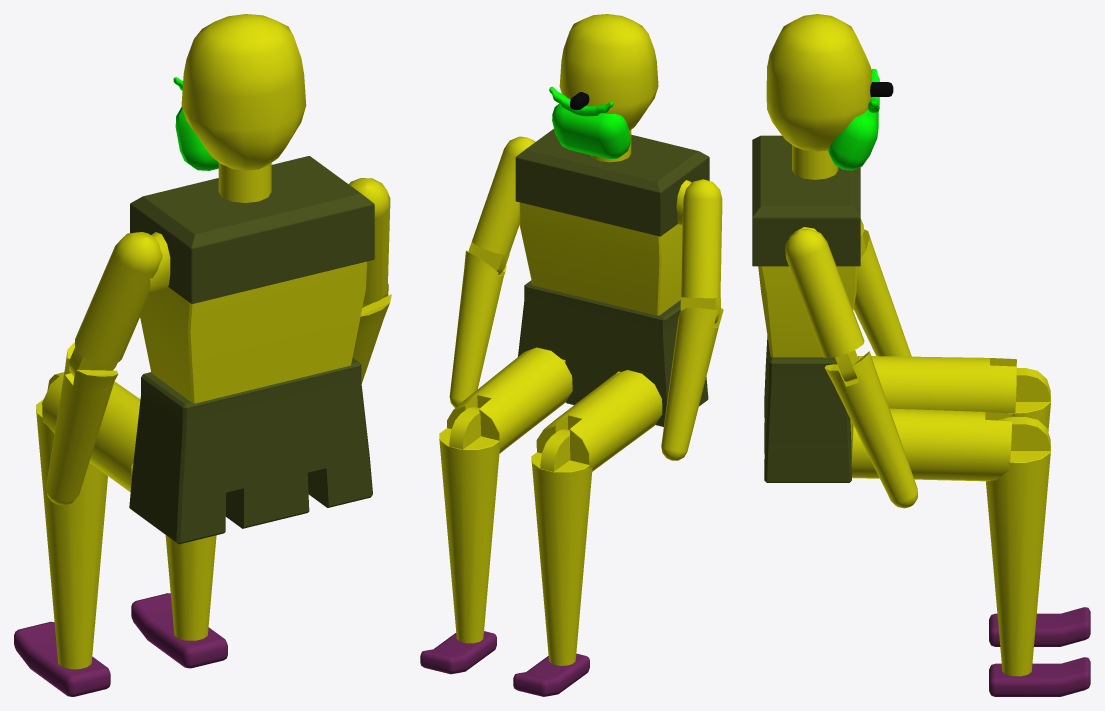
The model's file is SM_Peter_Puppet.fbx.
3 renders of one model, left to right at view 1: azimuth 30°, elevation 25°; view 2: azimuth 150°, elevation 25°; view 3: azimuth 270°, elevation 25°, orthographic. The views are drawn at different scales.
Parts seen in each view (by area): view 1: polySurface22; view 2: polySurface22; view 3: polySurface22.
Part boxes in pixels (x1,y1,x2,y2): polySurface22: (14,14,391,696); polySurface22: (420,14,723,696); polySurface22: (752,14,1090,696).
Bounding box in the file's own units: 68.55 × 151 × 72.3.
